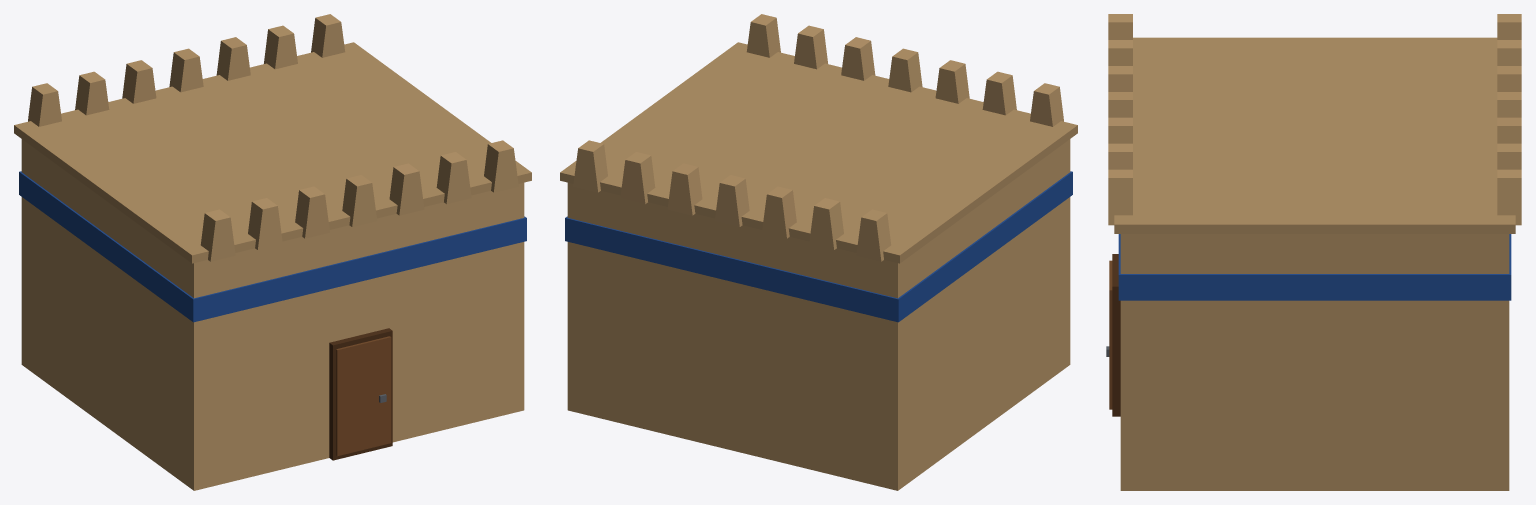
The model's file is minotaur_house_a_broken.glb.
3 views of the same model, side by side, from view 1: azimuth 30°, elevation 25°; view 2: azimuth 150°, elevation 25°; view 3: azimuth 270°, elevation 25° (orthographic). The views are drawn at different scales.
Visible parts, largest first — view 1: minotaur_house_a_piece3, minotaur_house_a_piece2, minotaur_house_a_piece1, minotaur_house_a_piece9, minotaur_house_a_piece5, minotaur_house_a_piece4, minotaur_house_a_piece0, minotaur_house_a_piece8, minotaur_house_a_piece6, minotaur_house_a_piece7; view 2: minotaur_house_a_piece1, minotaur_house_a_piece2, minotaur_house_a_piece9, minotaur_house_a_piece0, minotaur_house_a_piece3, minotaur_house_a_piece4, minotaur_house_a_piece5, minotaur_house_a_piece8, minotaur_house_a_piece7; view 3: minotaur_house_a_piece0, minotaur_house_a_piece9, minotaur_house_a_piece1, minotaur_house_a_piece2, minotaur_house_a_piece3, minotaur_house_a_piece8, minotaur_house_a_piece5, minotaur_house_a_piece4, minotaur_house_a_piece7.
Part boxes in pixels (x1,y1,x2,y2): minotaur_house_a_piece3: [224, 159, 511, 469]; minotaur_house_a_piece2: [14, 84, 295, 414]; minotaur_house_a_piece1: [44, 14, 390, 147]; minotaur_house_a_piece9: [292, 71, 531, 268]; minotaur_house_a_piece5: [133, 194, 258, 490]; minotaur_house_a_piece4: [89, 203, 230, 445]; minotaur_house_a_piece0: [388, 69, 526, 413]; minotaur_house_a_piece8: [250, 158, 373, 195]; minotaur_house_a_piece6: [219, 440, 278, 484]; minotaur_house_a_piece7: [229, 152, 317, 206]; minotaur_house_a_piece1: [560, 140, 864, 479]; minotaur_house_a_piece2: [805, 134, 1064, 490]; minotaur_house_a_piece9: [603, 14, 817, 145]; minotaur_house_a_piece0: [567, 140, 716, 446]; minotaur_house_a_piece3: [810, 27, 1019, 131]; minotaur_house_a_piece4: [951, 84, 1077, 440]; minotaur_house_a_piece5: [920, 81, 1072, 408]; minotaur_house_a_piece8: [813, 101, 927, 133]; minotaur_house_a_piece7: [815, 127, 959, 140]; minotaur_house_a_piece0: [1118, 222, 1509, 490]; minotaur_house_a_piece9: [1108, 137, 1427, 287]; minotaur_house_a_piece1: [1304, 20, 1521, 326]; minotaur_house_a_piece2: [1144, 14, 1521, 141]; minotaur_house_a_piece3: [1106, 40, 1218, 416]; minotaur_house_a_piece8: [1208, 95, 1267, 160]; minotaur_house_a_piece5: [1108, 19, 1218, 99]; minotaur_house_a_piece4: [1108, 14, 1213, 83]; minotaur_house_a_piece7: [1206, 80, 1296, 144].
Bounding box in the file's own units: 2.16 × 1.64 × 2.03.
